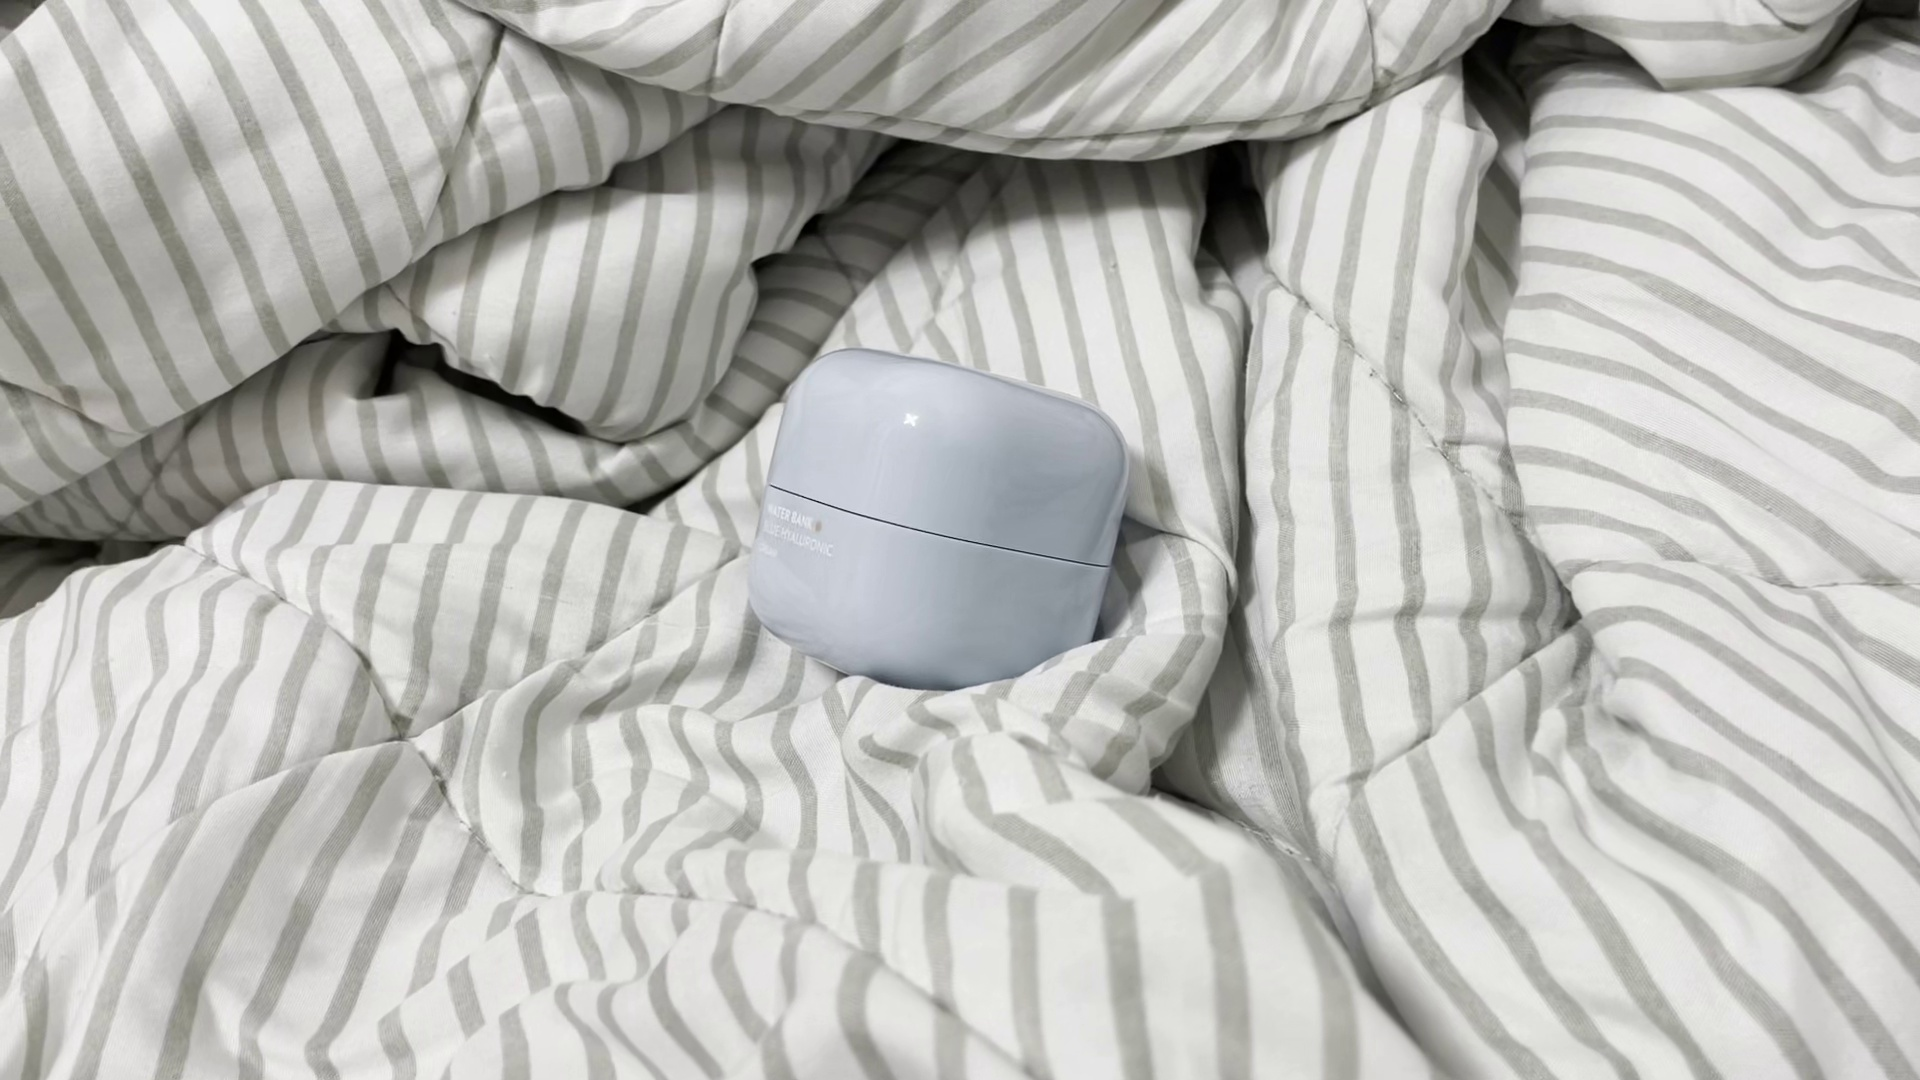cream: (746, 345, 1130, 696)
